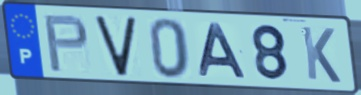0: (147, 16, 192, 80)
8: (250, 22, 292, 83)
A: (198, 22, 250, 80)
K: (299, 24, 343, 85)
P: (42, 14, 92, 74)
V: (92, 15, 138, 78)
